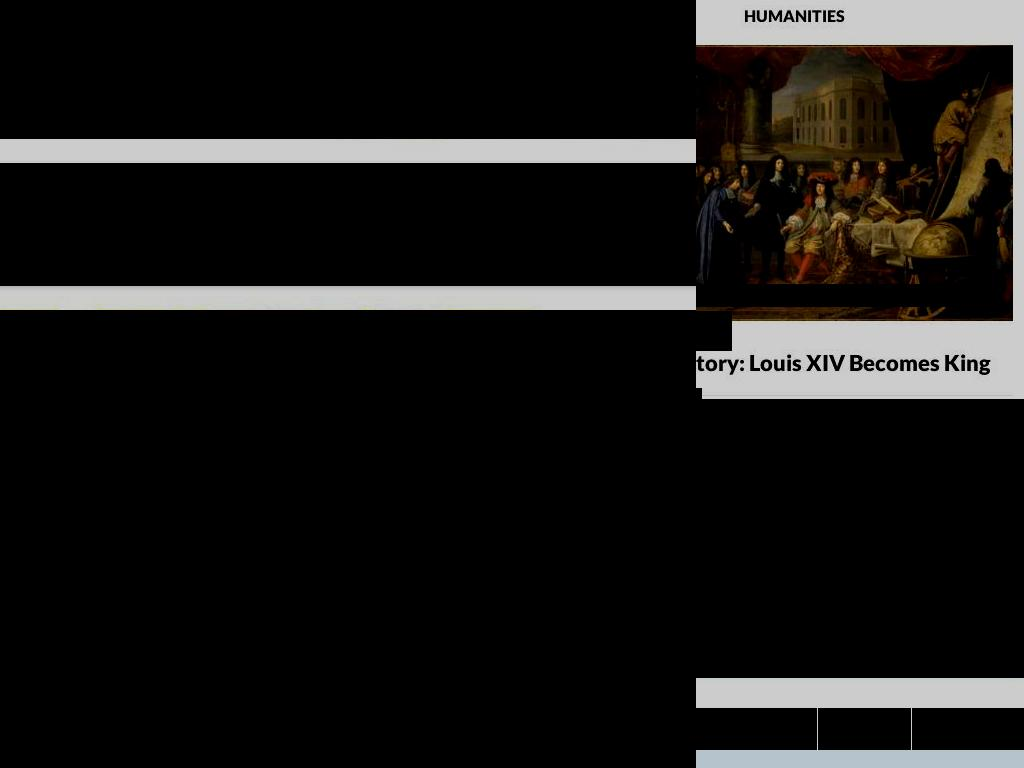button: (696, 44, 1013, 396), (0, 310, 696, 399), (219, 6, 527, 57), (0, 6, 206, 57), (0, 72, 206, 123), (696, 284, 983, 307), (696, 708, 817, 750), (912, 708, 1024, 750), (818, 708, 911, 750), (696, 311, 732, 351)
field: (380, 399, 641, 425), (588, 432, 641, 463)
heading: (0, 189, 696, 219), (551, 320, 696, 349), (738, 8, 850, 25)
image: (0, 399, 696, 768), (0, 0, 696, 139), (696, 399, 1024, 678), (696, 44, 1013, 322), (724, 429, 947, 475), (779, 563, 887, 601), (696, 645, 785, 678)
link: (551, 359, 696, 399), (696, 334, 1013, 351), (11, 229, 93, 252), (55, 423, 167, 439), (380, 433, 486, 449), (103, 459, 200, 475), (229, 459, 310, 475), (277, 563, 345, 579), (134, 563, 199, 579), (469, 563, 534, 579), (422, 520, 485, 536), (363, 520, 416, 536), (215, 563, 262, 579), (310, 520, 356, 536), (550, 563, 596, 579), (216, 520, 261, 536), (359, 563, 403, 579), (517, 520, 556, 536), (172, 520, 210, 536), (267, 520, 303, 536), (418, 563, 454, 579), (84, 563, 119, 579)
text: (55, 423, 288, 475), (696, 350, 1013, 377), (263, 18, 484, 44), (734, 644, 1024, 663), (0, 18, 163, 44), (0, 84, 163, 110), (779, 563, 887, 601), (93, 229, 189, 252), (294, 580, 402, 599), (485, 520, 519, 536), (139, 520, 172, 536), (200, 459, 230, 475), (209, 520, 218, 536), (303, 520, 312, 536), (415, 520, 424, 536), (166, 423, 174, 439), (260, 520, 268, 536), (356, 520, 364, 536), (309, 459, 314, 475)
